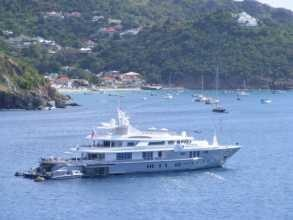yacht: (46, 109, 254, 180)
